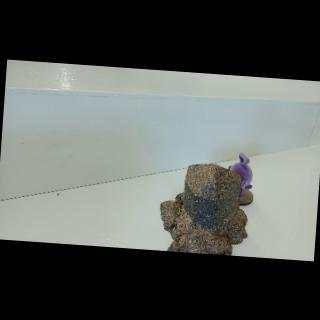teletubby: (228, 152, 252, 200)
